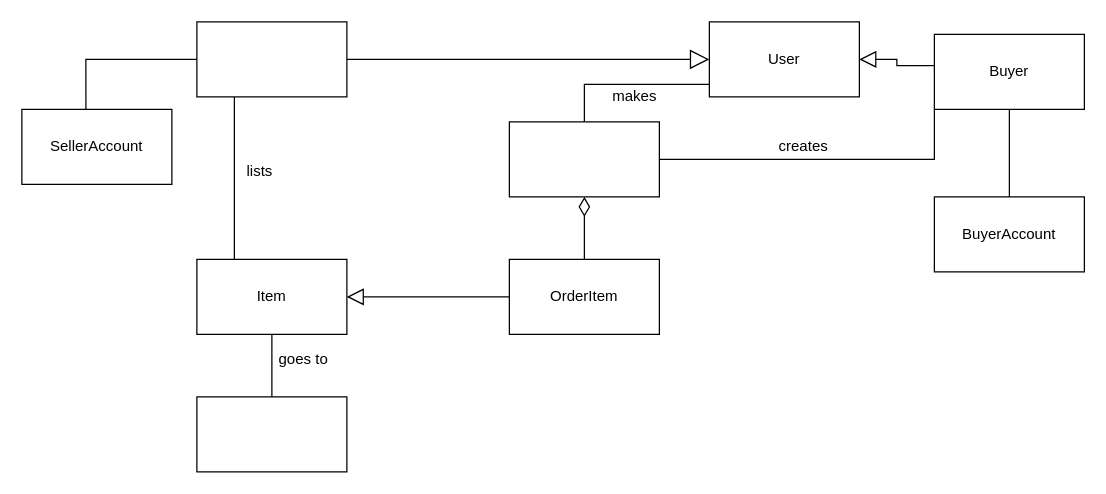
Some shapes in this 1106 by 494 pixel diagram are drawn without their labels. The centre of each missing label's shape, as x and y in pixels:
"Order" goes at pixel 583 159.
"Seller" goes at pixel 271 59.
"Shipment" goes at pixel 271 434.
